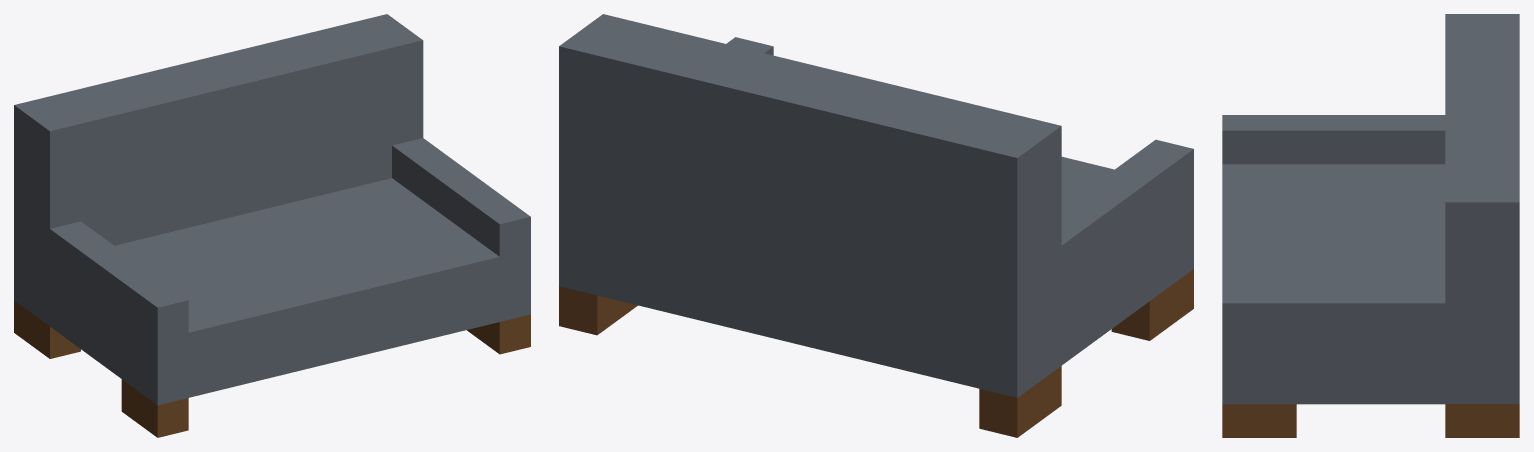
Rendered from couch.obj.
3 renders of one model, left to right at view 1: azimuth 30°, elevation 25°; view 2: azimuth 150°, elevation 25°; view 3: azimuth 270°, elevation 25°, orthographic. The views are drawn at different scales.
Visible parts, largest first — view 1: Model; view 2: Model; view 3: Model.
Boxes of the visible parts, x1=… form: Model: x1=14, y1=14, x2=530, y2=437; Model: x1=559, y1=14, x2=1193, y2=437; Model: x1=1222, y1=14, x2=1519, y2=437.
Size of the model in its own units: 32 by 18.67 by 21.33.
1 material, 1 textured.
